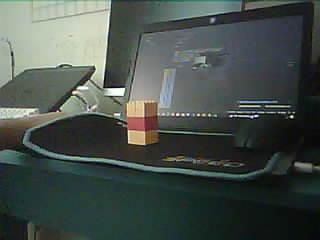lego: (126, 100, 159, 145)
